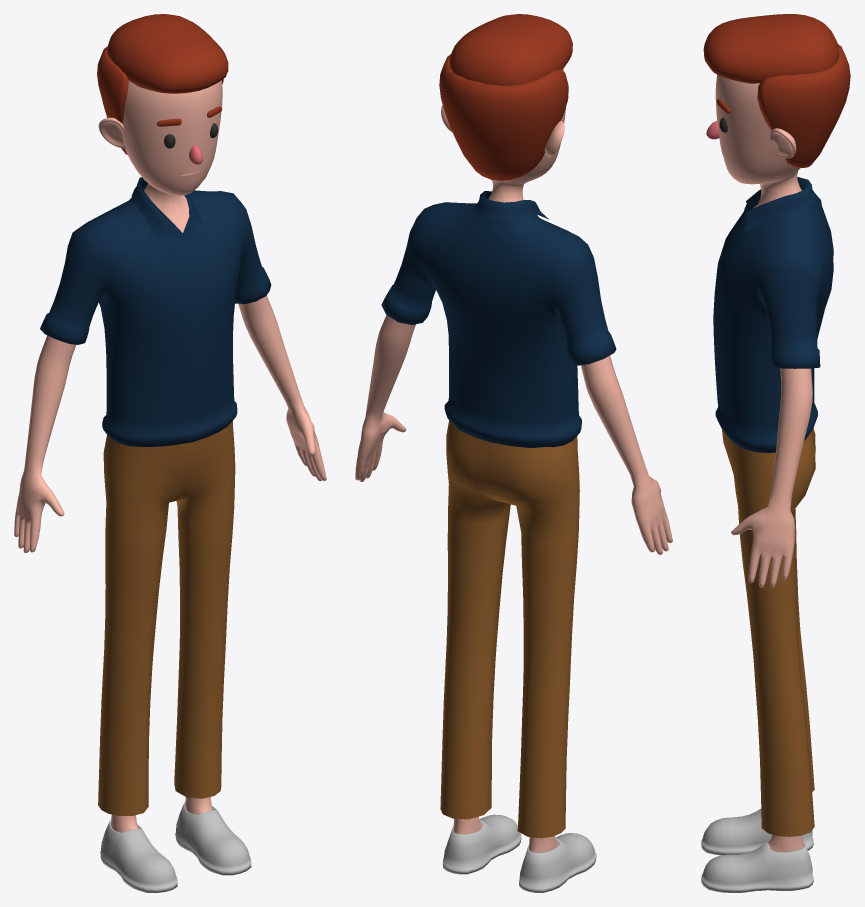
3 renders of one model, left to right at view 1: azimuth 30°, elevation 25°; view 2: azimuth 150°, elevation 25°; view 3: azimuth 270°, elevation 25°, orthographic.
Parts seen in each view (by area): view 1: Cube.007, Shirt_001, Sphere, Hair_001, Cube.009; view 2: Cube.007, Shirt_001, Hair_001, Sphere, Cube.009; view 3: Shirt_001, Cube.007, Hair_001, Sphere, Cube.009, Cube.001.
Boxes of the visible parts, x1,y1,x2,y2 form: Cube.007: (98, 421, 235, 815); Shirt_001: (40, 177, 271, 446); Sphere: (14, 80, 326, 832); Hair_001: (97, 14, 228, 154); Cube.009: (100, 802, 251, 892); Cube.007: (440, 420, 579, 838); Shirt_001: (381, 191, 616, 447); Hair_001: (439, 14, 572, 180); Sphere: (355, 69, 672, 852); Cube.009: (442, 814, 596, 892); Shirt_001: (713, 177, 833, 452); Cube.007: (721, 428, 815, 836); Hair_001: (703, 14, 850, 167); Sphere: (715, 74, 812, 852); Cube.009: (701, 808, 813, 892); Cube.001: (770, 128, 796, 158).
Bounding box in the file's own units: 1.45 × 3.84 × 0.6174.
